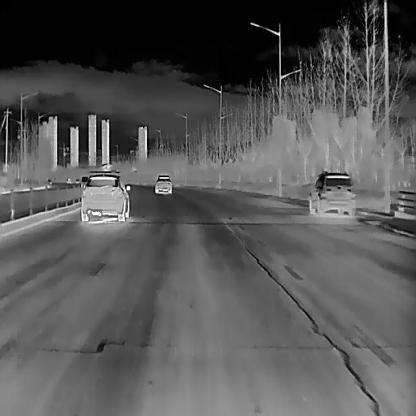car: (80, 170, 130, 221), (308, 170, 356, 216), (155, 174, 171, 193), (80, 176, 88, 188), (64, 177, 72, 183), (46, 178, 52, 184), (74, 178, 80, 184)
